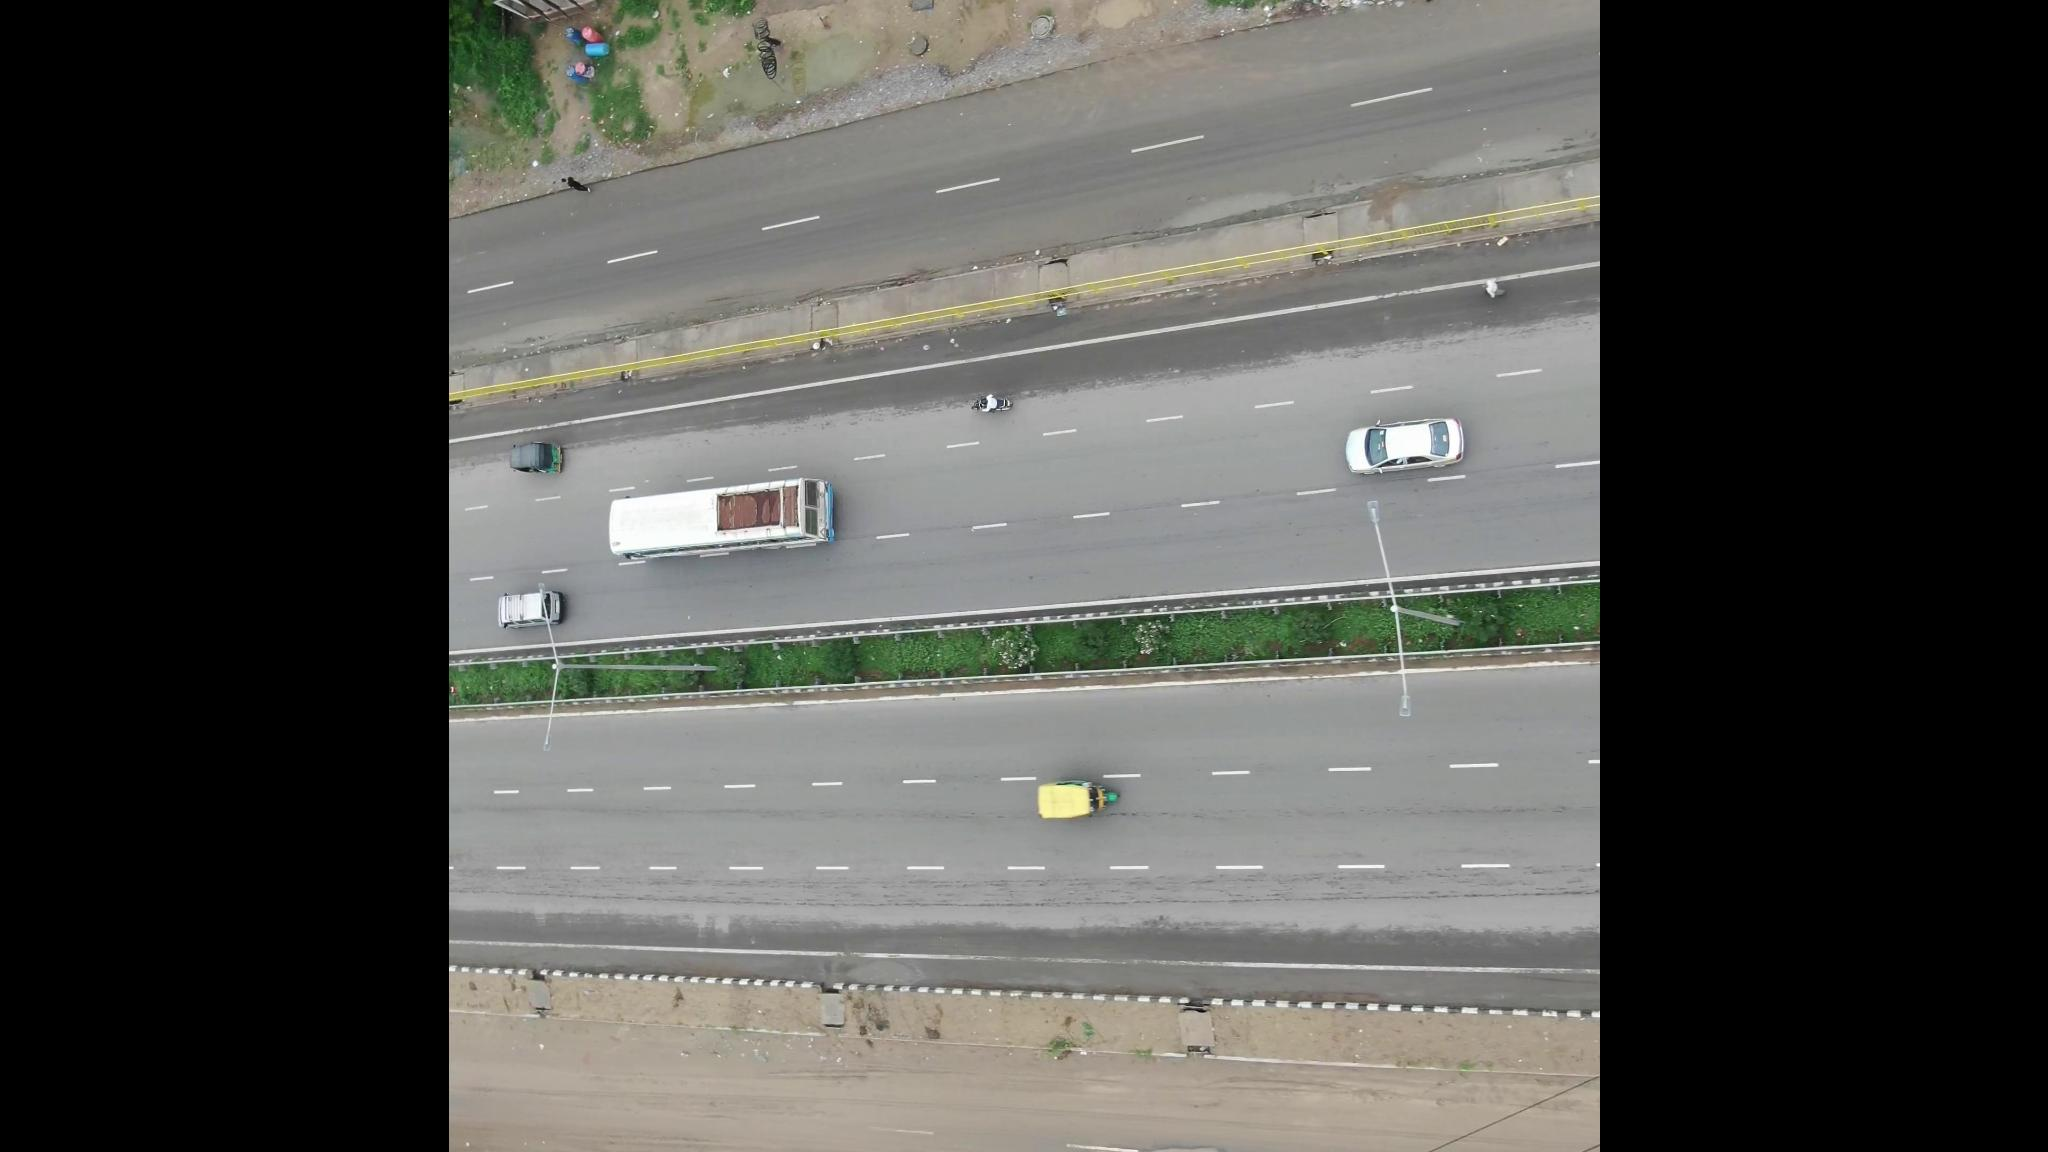Muddy_road: (1138, 1066, 1357, 1139), (506, 1039, 748, 1104), (762, 1062, 1038, 1115), (1378, 1080, 1582, 1152)
Potholes: (1066, 1121, 1231, 1152)
Ravelling: (810, 852, 1077, 916), (570, 865, 792, 914), (1401, 850, 1587, 906), (1110, 871, 1356, 906)
Waterlogging: (1158, 180, 1378, 231), (1418, 127, 1575, 183)
